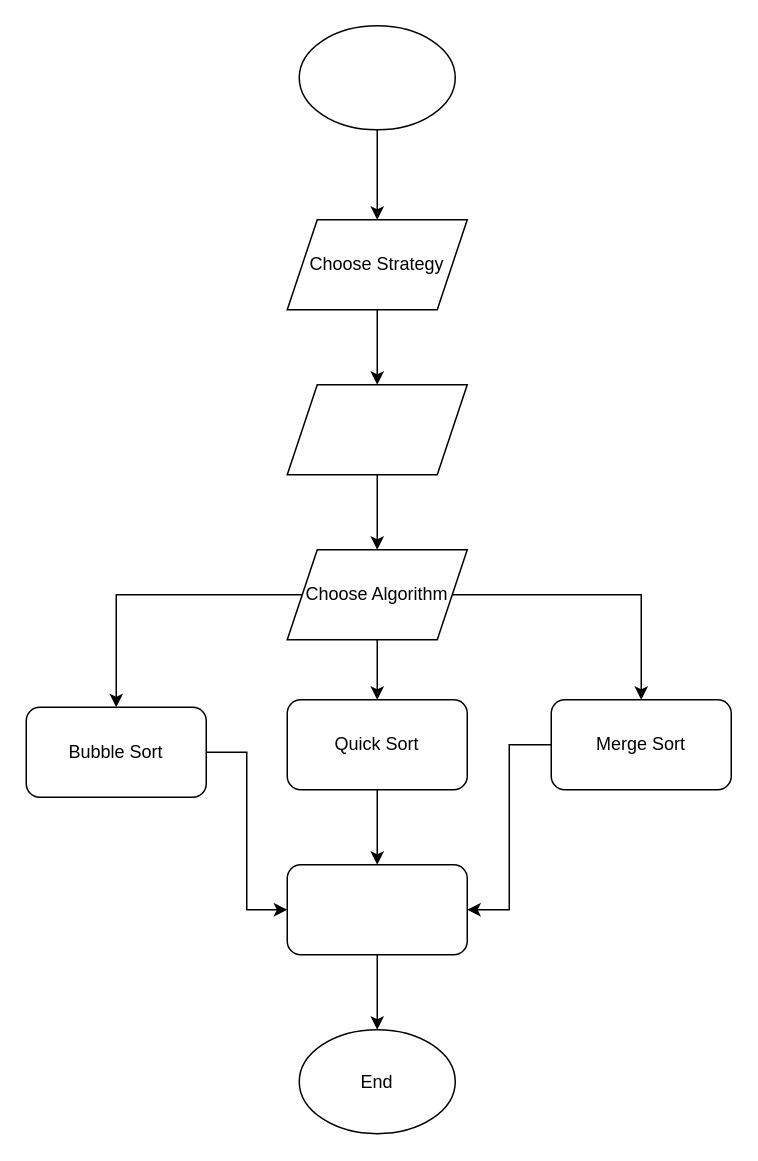
Image size: 758x1161. Some labels were removed from this diagram. The shapes that lost their labels are listed below. From the top down, each one's box as (x1, y1, x2, y2) in pixels, then its label:
(298, 24, 455, 130): Start
(286, 383, 467, 475): Initialize Array
(286, 863, 467, 955): Print Sorted Array
